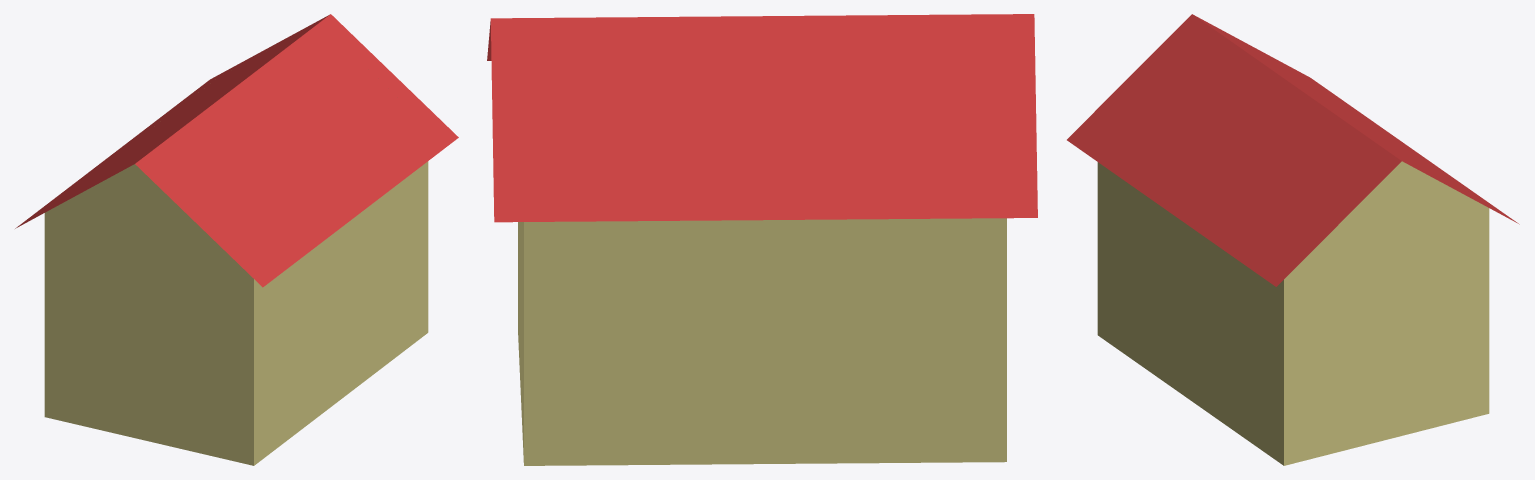
3 renders of one model, left to right at view 1: azimuth 30°, elevation 25°; view 2: azimuth 150°, elevation 25°; view 3: azimuth 270°, elevation 25°, orthographic. The views are drawn at different scales.
Size of the model in its own units: 16.38 by 15.01 by 10.43.
